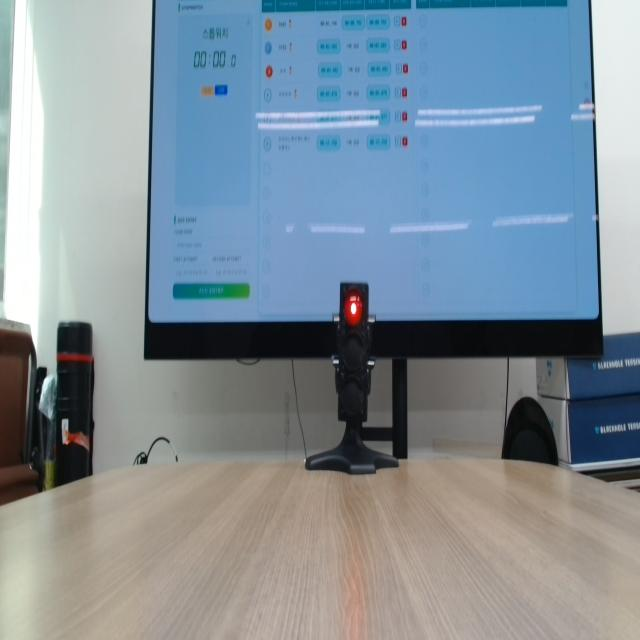red_light: (344, 290, 362, 327)
